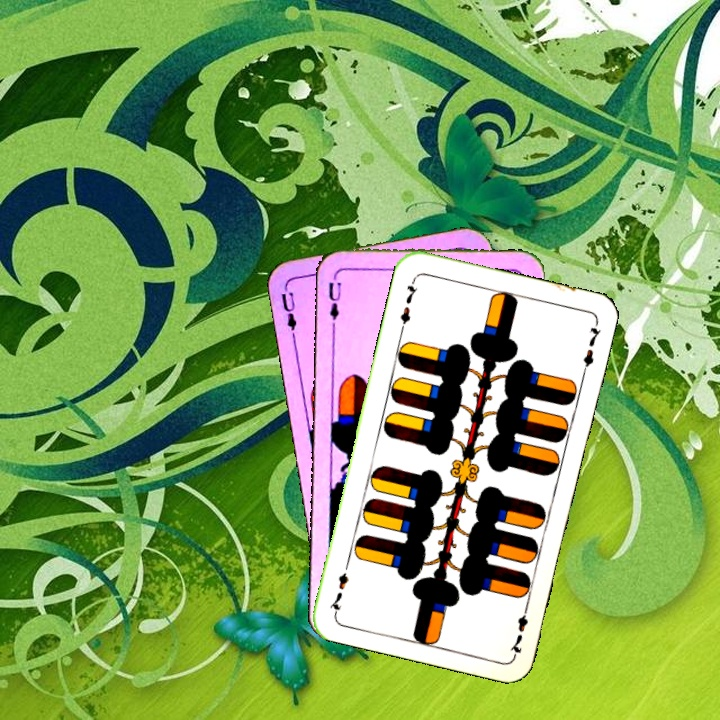E7: (396, 274, 421, 333), (506, 599, 531, 658)
EU: (277, 280, 300, 340), (324, 278, 343, 323)
